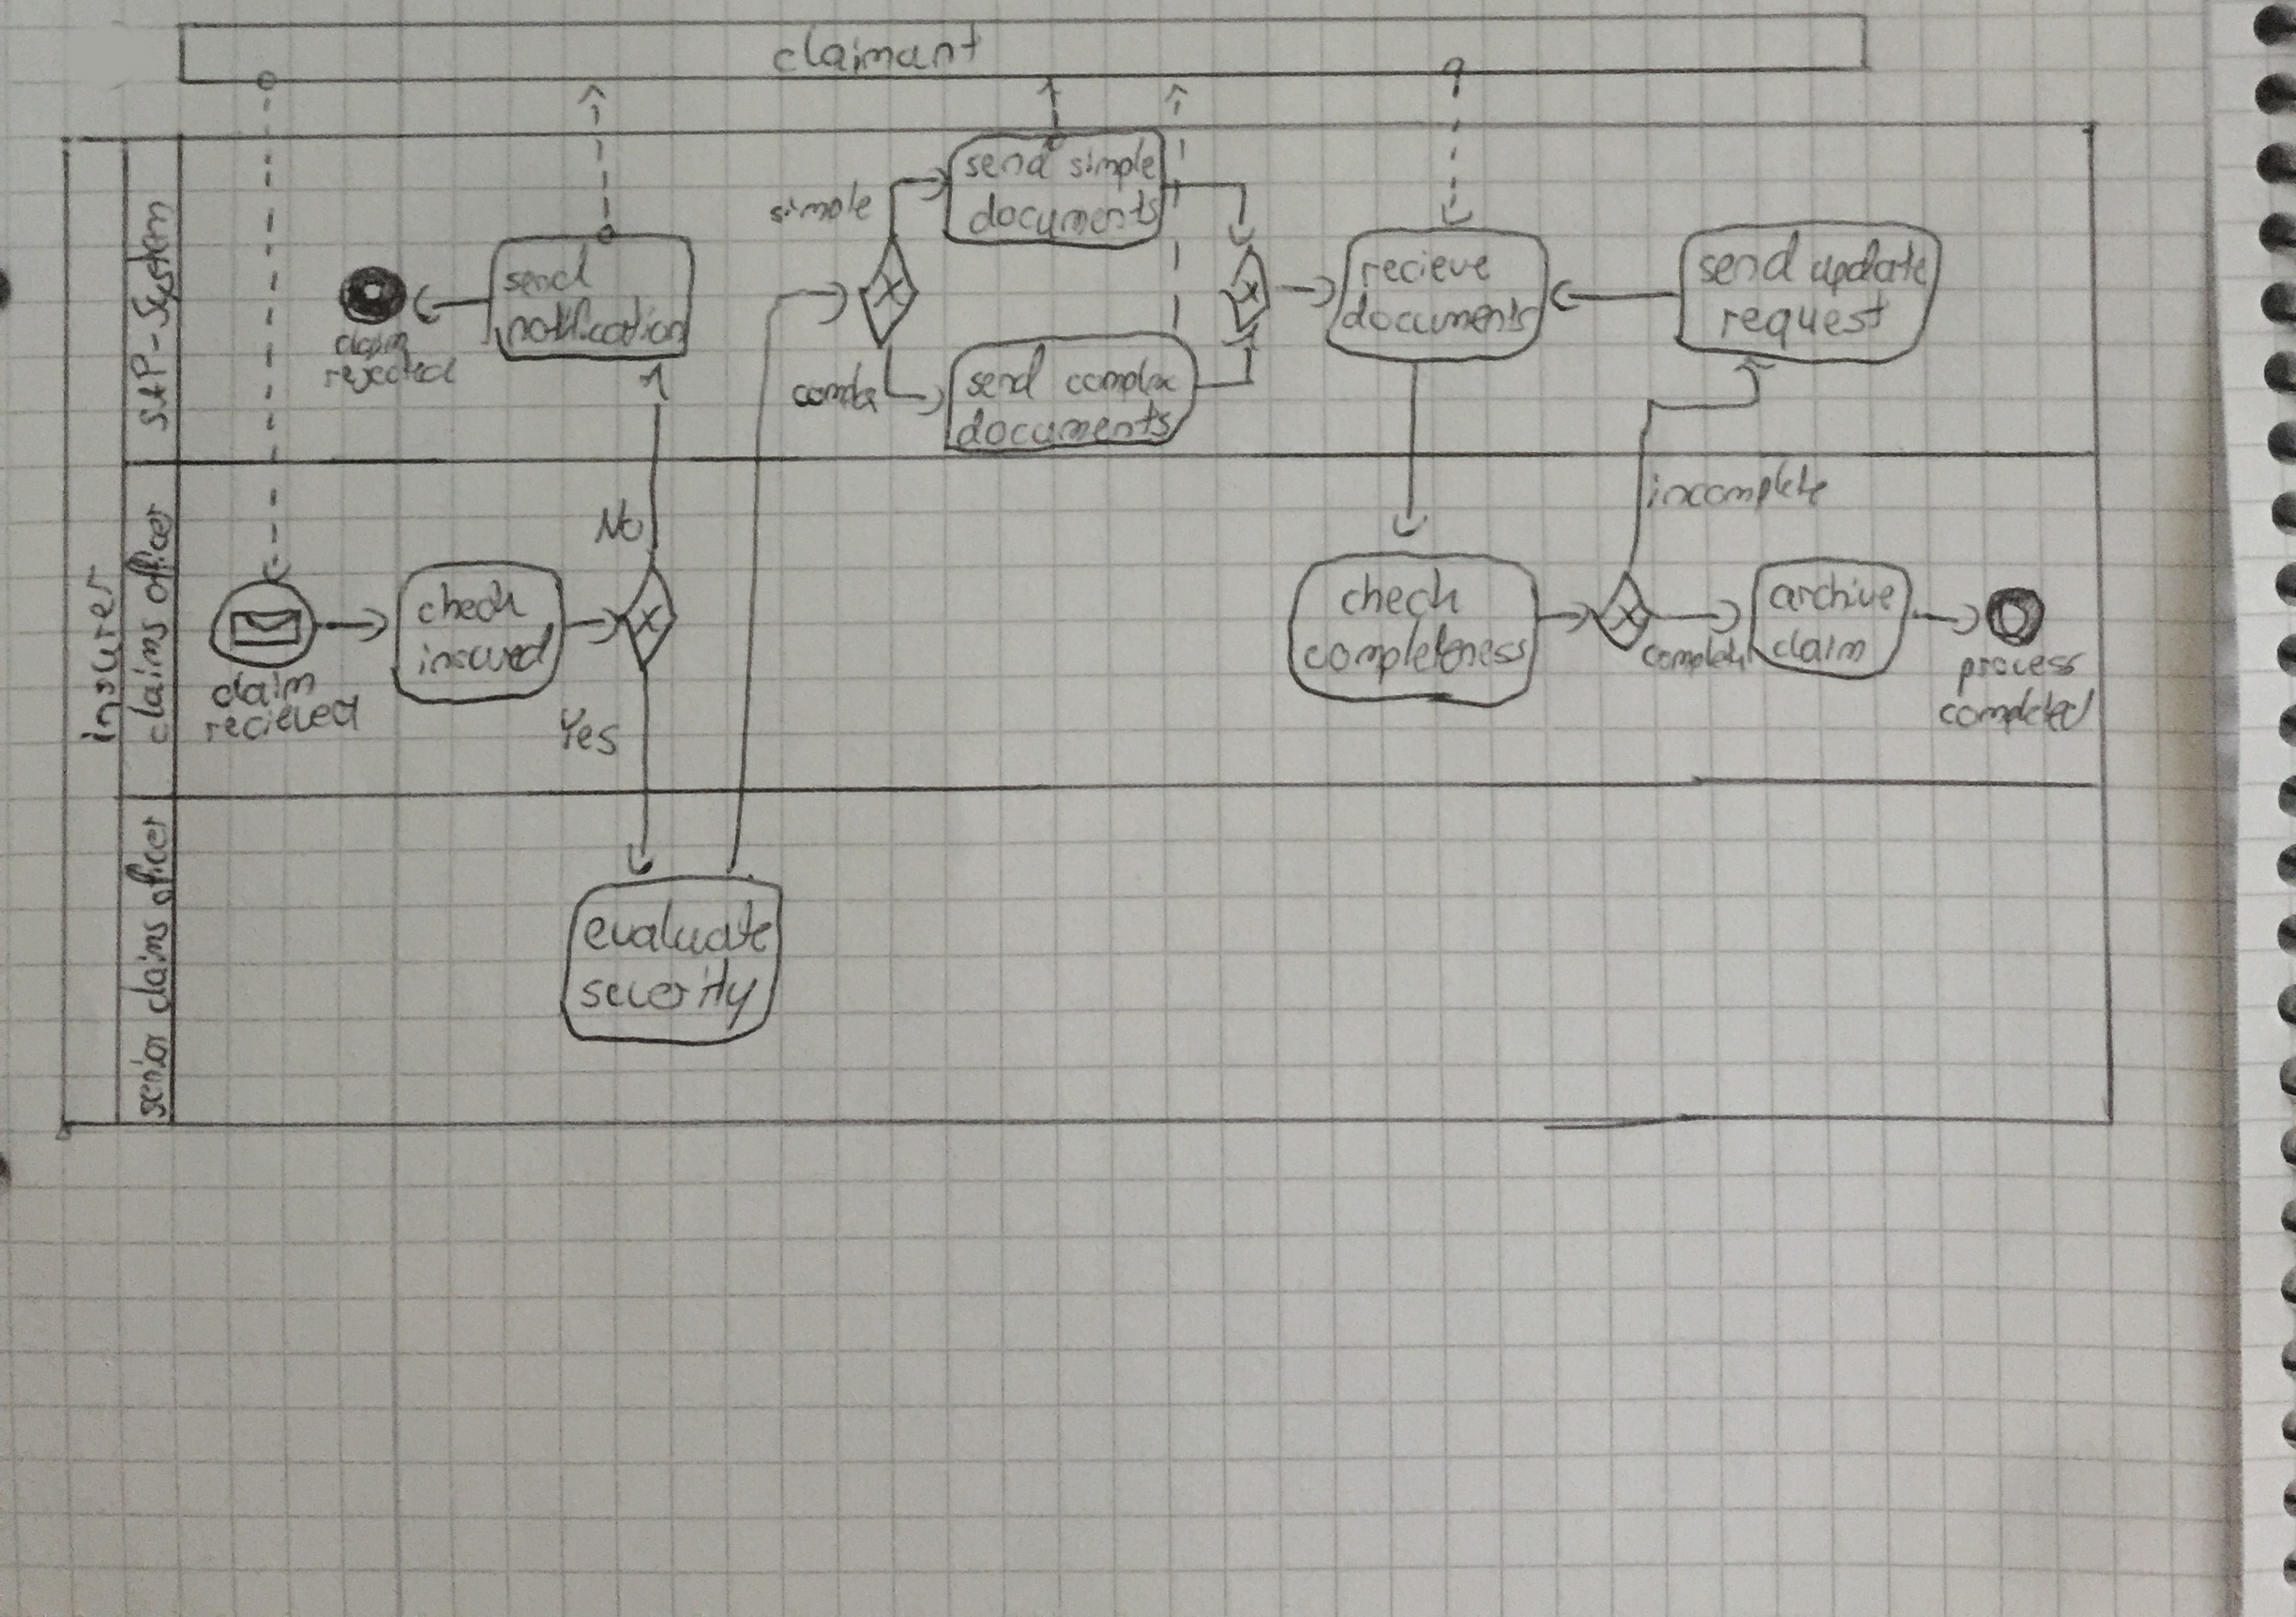No: (595, 500, 647, 549)
SAP-System: (130, 219, 175, 432)
Yes: (553, 707, 623, 758)
archive: (1773, 572, 1897, 611)
check: (409, 577, 530, 632), (1337, 572, 1470, 621)
claim: (214, 667, 319, 707), (1774, 625, 1872, 661), (329, 329, 415, 364)
claimant: (770, 28, 982, 70)
claims: (128, 614, 175, 745), (128, 915, 172, 1018)
complete: (1636, 632, 1748, 679)
completed: (1934, 686, 2098, 735)
completeness: (1302, 625, 1531, 679)
complex: (789, 360, 884, 413), (1062, 359, 1180, 401)
documents: (961, 406, 1180, 451), (975, 189, 1164, 238), (1342, 292, 1533, 336)
evaluate: (581, 901, 772, 959)
incomplete: (1636, 460, 1829, 516)
insured: (406, 630, 555, 681)
insurer: (74, 560, 123, 751)
notification: (504, 306, 691, 355)
officer: (130, 500, 177, 602), (130, 812, 173, 908)
process: (1956, 651, 2081, 679)
recieve: (1361, 247, 1487, 285)
recieved: (201, 698, 364, 747)
rejected: (320, 352, 460, 395)
request: (1715, 299, 1894, 341)
send: (495, 245, 590, 296), (1694, 240, 1799, 283), (959, 147, 1060, 185), (961, 362, 1045, 402)
senior: (128, 1025, 173, 1123)
severity: (577, 968, 761, 1024)
simple: (765, 184, 880, 231), (1066, 136, 1155, 184)
update: (1810, 238, 1927, 290)
